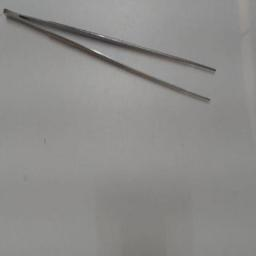DeBakey Dissector: (2, 3, 232, 123)
